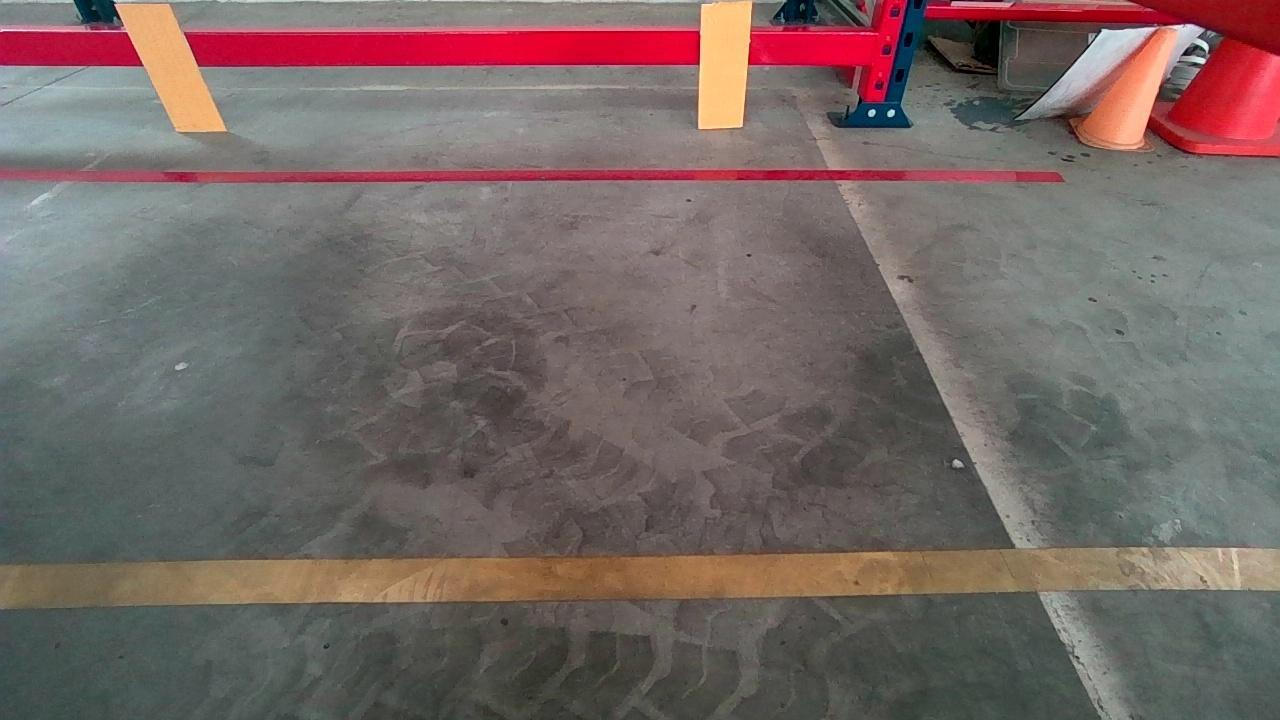h_rack: (0, 28, 874, 66)
orange_strip: (114, 4, 224, 129), (698, 1, 751, 128)
red_line: (0, 167, 1062, 184)
yellow_line: (5, 542, 1267, 612)
